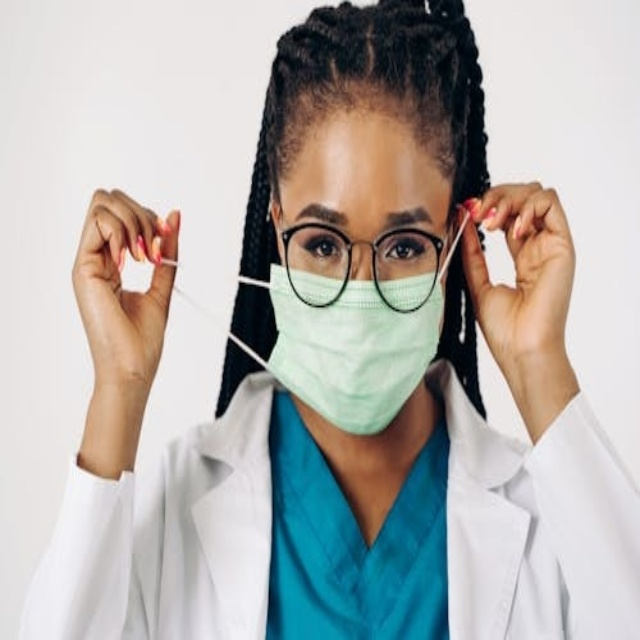Gafas: (276, 201, 453, 312)
Mascara: (264, 233, 447, 434)
Sin_guantes: (68, 173, 188, 398), (454, 177, 582, 379)
